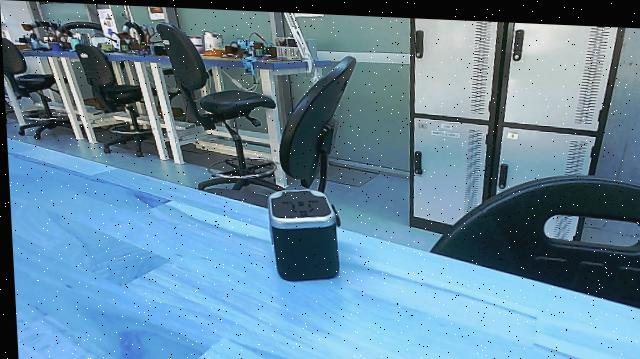adapter: (257, 181, 345, 285)
